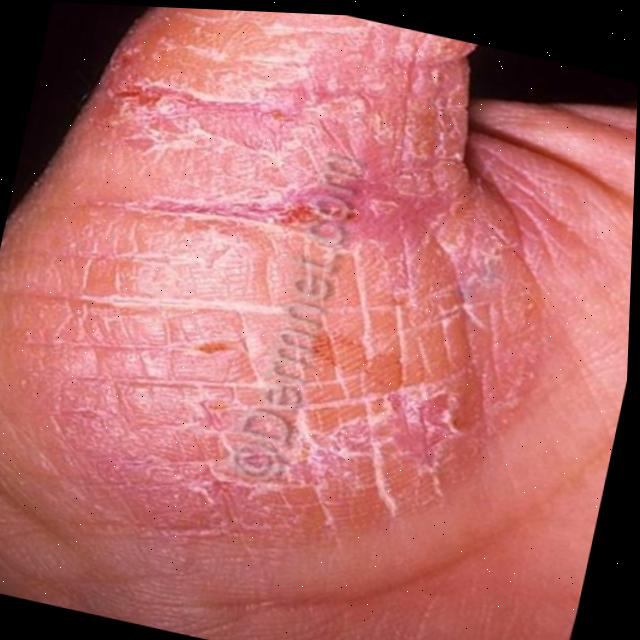Eczema: (109, 6, 574, 593)
